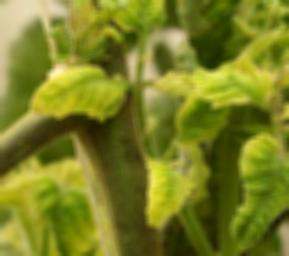Tomato leaf yellow virus: (216, 119, 289, 256), (134, 134, 198, 256), (28, 55, 127, 120), (158, 65, 265, 123)
